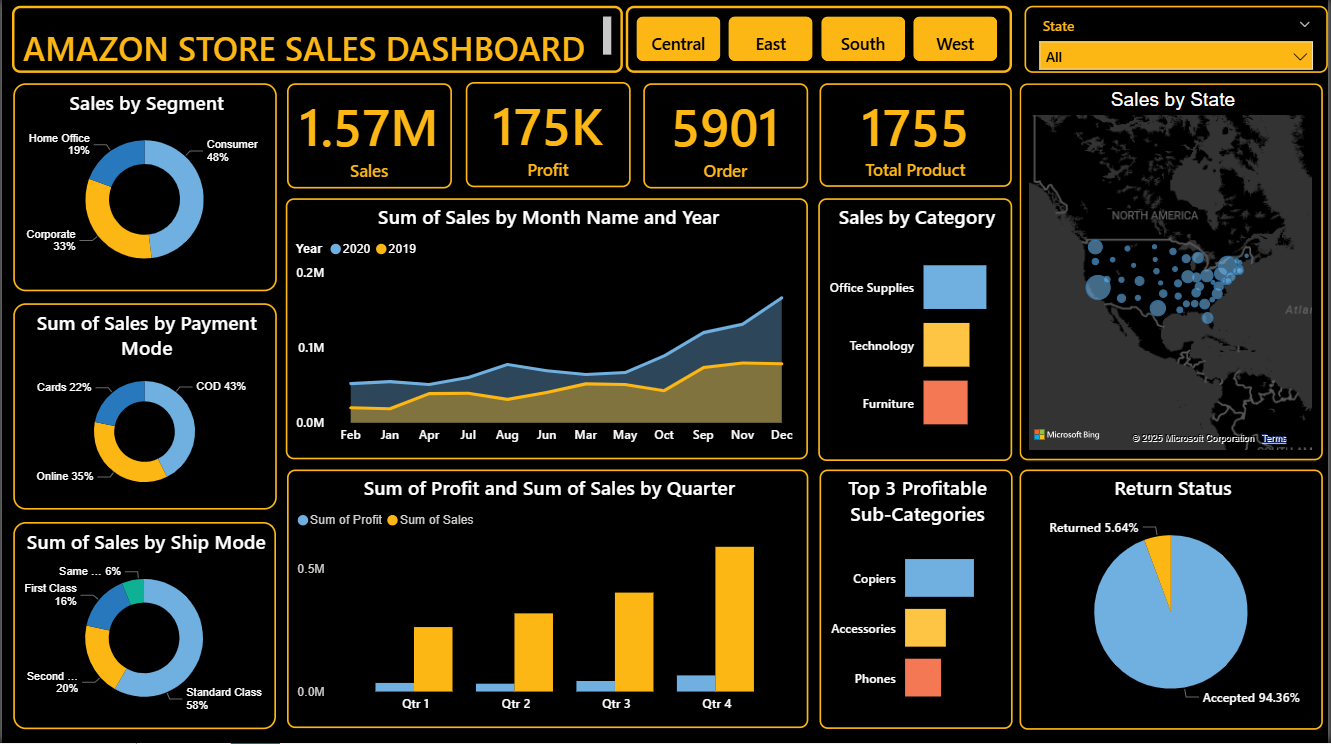

The page's visual inventory and layout, read from the dashboard file:
{"tool":"powerbi","page":{"name":"Page 1","canvas":[1280,720],"ordinal":0},"visuals":[{"type":"donutChart","title":"Sales by Segment","fields":{"Y":["Sum(Amazon Store Sales Data.Sales)"],"Category":["Amazon Store Sales Data.Segment"]},"box":[10.8,82.9,254.6,200.5],"z":0},{"type":"donutChart","fields":{"Y":["Sum(Amazon Store Sales Data.Sales)"],"Category":["Amazon Store Sales Data.Payment Mode"]},"box":[10.8,295.4,254.6,199.3],"z":1000},{"type":"donutChart","fields":{"Y":["Sum(Amazon Store Sales Data.Sales)"],"Category":["Amazon Store Sales Data.Ship Mode"]},"box":[11.2,506.2,253.8,200],"z":2000},{"type":"textbox","box":[9.7,8.4,589.9,65.1],"z":3000},{"type":"areaChart","fields":{"Y":["Sum(Amazon Store Sales Data.Sales)"],"Category":["Amazon Store Sales Data.Month Name"],"Series":["Amazon Store Sales Data.Year"]},"box":[273.9,194.2,504.3,252.1],"z":4000},{"type":"clusteredColumnChart","fields":{"Y":["Sum(Amazon Store Sales Data.Profit)","Sum(Amazon Store Sales Data.Sales)"],"Category":["Amazon Store Sales Data.Order Date.Variation.Date Hierarchy.Quarter"]},"box":[275.1,456,503.1,249.7],"z":5000},{"type":"advancedSlicerVisual","fields":{"Values":["Amazon Store Sales Data.Region"]},"box":[602,8.4,372.8,65.1],"z":6000},{"type":"clusteredBarChart","title":"Sales by Category","fields":{"Category":["Amazon Store Sales Data.Category"],"Y":["Sum(Amazon Store Sales Data.Sales)"]},"box":[788.2,193.6,187.4,253.2],"z":7000},{"type":"clusteredBarChart","title":"Top 3 Profitable Sub-Categories","fields":{"Category":["Amazon Store Sales Data.Sub-Category"],"Y":["Sum(Amazon Store Sales Data.Profit)"]},"box":[789.5,455.6,186.2,250.7],"z":8000},{"type":"card","fields":{"Values":["Sum(Amazon Store Sales Data.Sales)"]},"box":[275.1,83.2,159.3,101.3],"z":9000},{"type":"card","fields":{"Values":["Sum(Amazon Store Sales Data.Profit)"]},"box":[447.6,82,159.3,101.3],"z":10000},{"type":"card","fields":{"Values":["CountNonNull(Amazon Store Sales Data.Order ID)"]},"box":[618.9,83.2,159.3,101.3],"z":11000},{"type":"card","fields":{"Values":["Count(Amazon Store Sales Data.Product ID)"]},"box":[789,83.2,185.8,100.1],"z":12000},{"type":"map","title":"Sales by State","fields":{"Size":["Sum(Amazon Store Sales Data.Sales)"],"Category":["Amazon Store Sales Data.State"]},"box":[982,83.2,293.2,364.3],"z":13000},{"type":"slicer","fields":{"Values":["Amazon Store Sales Data.State"]},"box":[986.9,8.4,293.2,65.1],"z":13001},{"type":"pieChart","title":"Return Status","fields":{"Category":["Amazon Store Sales Data.Order Status"],"Y":["Sum(Amazon Store Sales Data.Sales)"]},"box":[982,456,293,251],"z":13002}]}

Visuals, with their boxes in screenshot pixels (x1, y1, x2, y2), scaled from the page's 1280x720 canvas onto the 1331x744 screenshot:
"Sales by Segment" donutChart: [left=11, top=86, right=276, bottom=293]
donutChart - Sum(Amazon Store Sales Data.Sales) x Amazon Store Sales Data.Payment Mode: [left=11, top=305, right=276, bottom=511]
donutChart - Sum(Amazon Store Sales Data.Sales) x Amazon Store Sales Data.Ship Mode: [left=12, top=523, right=276, bottom=730]
textbox: [left=10, top=9, right=623, bottom=76]
areaChart - Sum(Amazon Store Sales Data.Sales) x Amazon Store Sales Data.Month Name: [left=285, top=201, right=809, bottom=461]
clusteredColumnChart - Sum(Amazon Store Sales Data.Profit) x Sum(Amazon Store Sales Data.Sales): [left=286, top=471, right=809, bottom=729]
advancedSlicerVisual - Amazon Store Sales Data.Region: [left=626, top=9, right=1014, bottom=76]
"Sales by Category" clusteredBarChart: [left=820, top=200, right=1014, bottom=462]
"Top 3 Profitable Sub-Categories" clusteredBarChart: [left=821, top=471, right=1015, bottom=730]
card - Sum(Amazon Store Sales Data.Sales): [left=286, top=86, right=452, bottom=191]
card - Sum(Amazon Store Sales Data.Profit): [left=465, top=85, right=631, bottom=189]
card - CountNonNull(Amazon Store Sales Data.Order ID): [left=644, top=86, right=809, bottom=191]
card - Count(Amazon Store Sales Data.Product ID): [left=820, top=86, right=1014, bottom=189]
"Sales by State" map: [left=1021, top=86, right=1326, bottom=462]
slicer - Amazon Store Sales Data.State: [left=1026, top=9, right=1330, bottom=76]
"Return Status" pieChart: [left=1021, top=471, right=1326, bottom=731]
